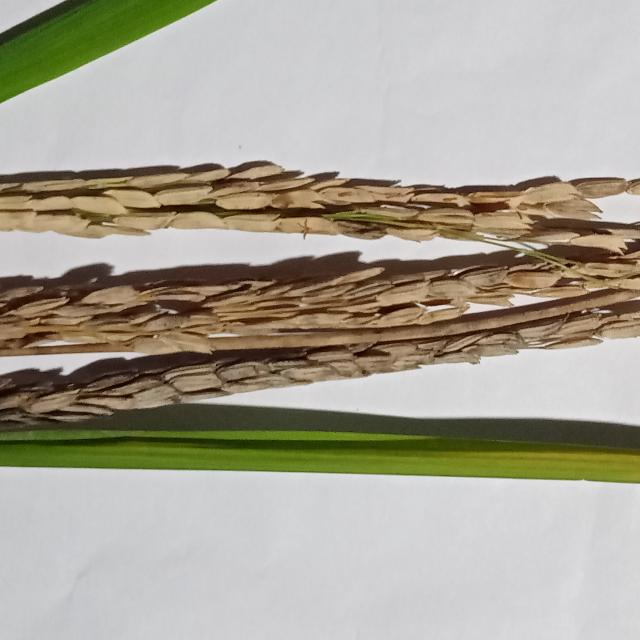Neck_Blast: (0, 278, 640, 434), (0, 230, 640, 360), (0, 158, 640, 248)
